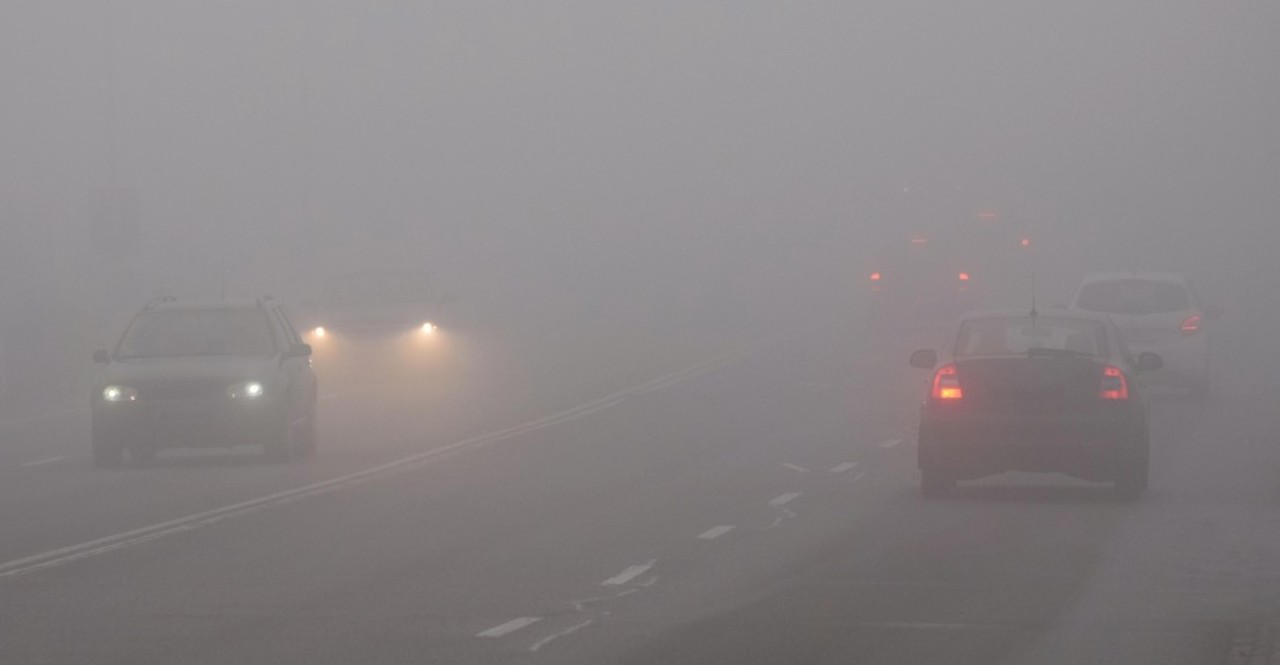car: (912, 305, 1162, 494), (88, 297, 316, 467), (1065, 271, 1209, 400), (302, 262, 453, 381), (867, 234, 973, 317), (961, 201, 1039, 277)
